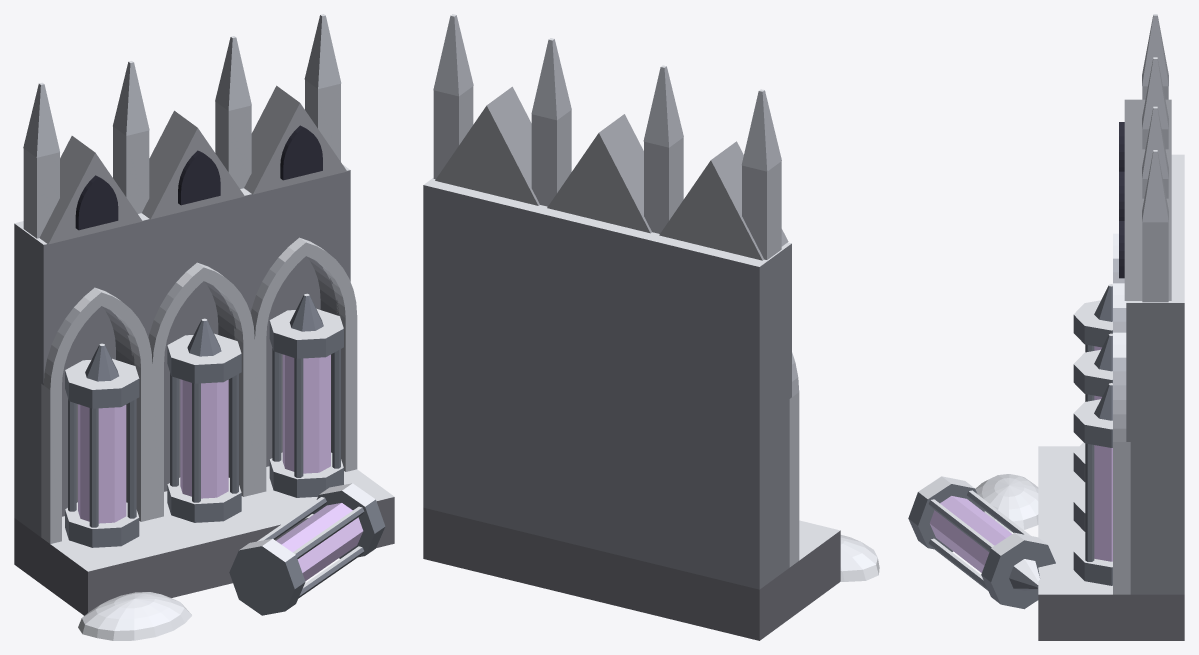
The model's file is PR_Celulas.fbx.
The picture shows the model from 3 angles, left to right: view 1: azimuth 30°, elevation 25°; view 2: azimuth 150°, elevation 25°; view 3: azimuth 270°, elevation 25°; orthographic projection. The views are drawn at different scales.
Visible parts, largest first — view 1: PR_Celulas; view 2: PR_Celulas; view 3: PR_Celulas.
Boxes of the visible parts, x1=… form: PR_Celulas: x1=14, y1=14, x2=394, y2=640; PR_Celulas: x1=423, y1=14, x2=879, y2=640; PR_Celulas: x1=908, y1=14, x2=1184, y2=640.
Size of the model in its own units: 2.56 by 3.65 by 1.89.
